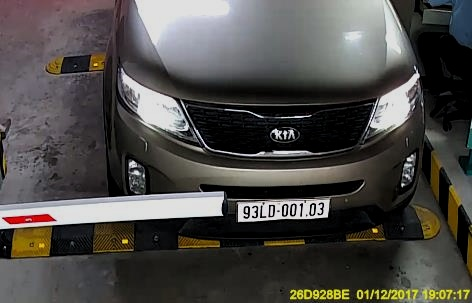plate: (231, 195, 330, 223)
